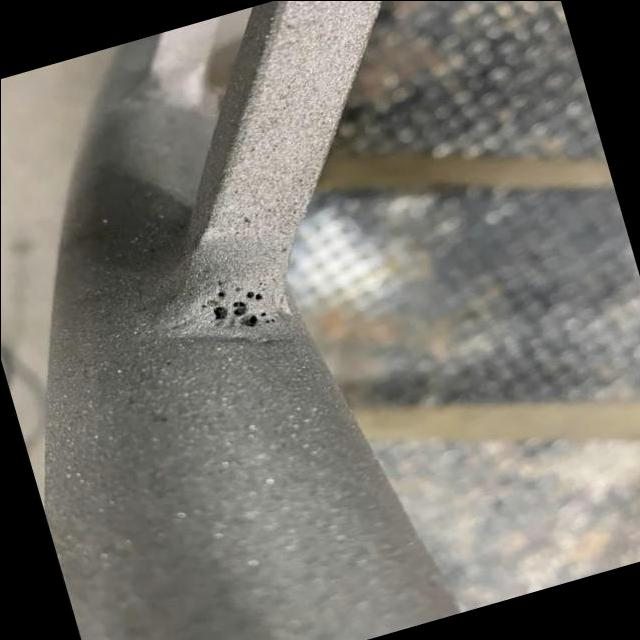defect: (242, 309, 281, 329), (208, 302, 230, 320), (230, 300, 251, 316), (242, 290, 265, 301), (215, 290, 226, 299), (256, 280, 267, 288), (213, 278, 224, 286), (234, 285, 244, 293)
